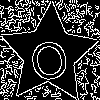O: (24, 29, 72, 84)
